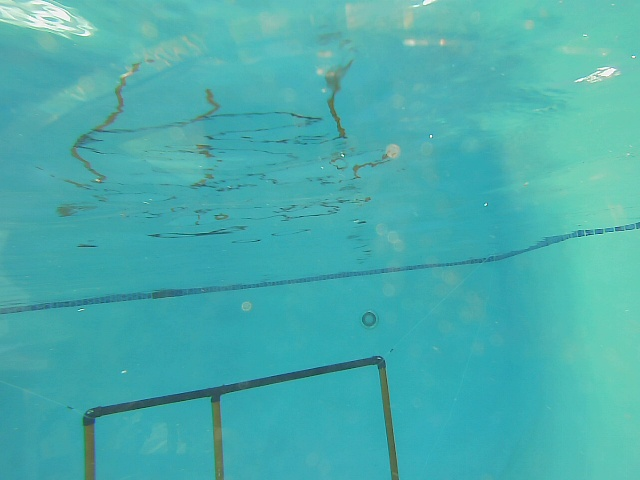Gate: (375, 363, 401, 480), (207, 395, 230, 480), (81, 417, 100, 480)
